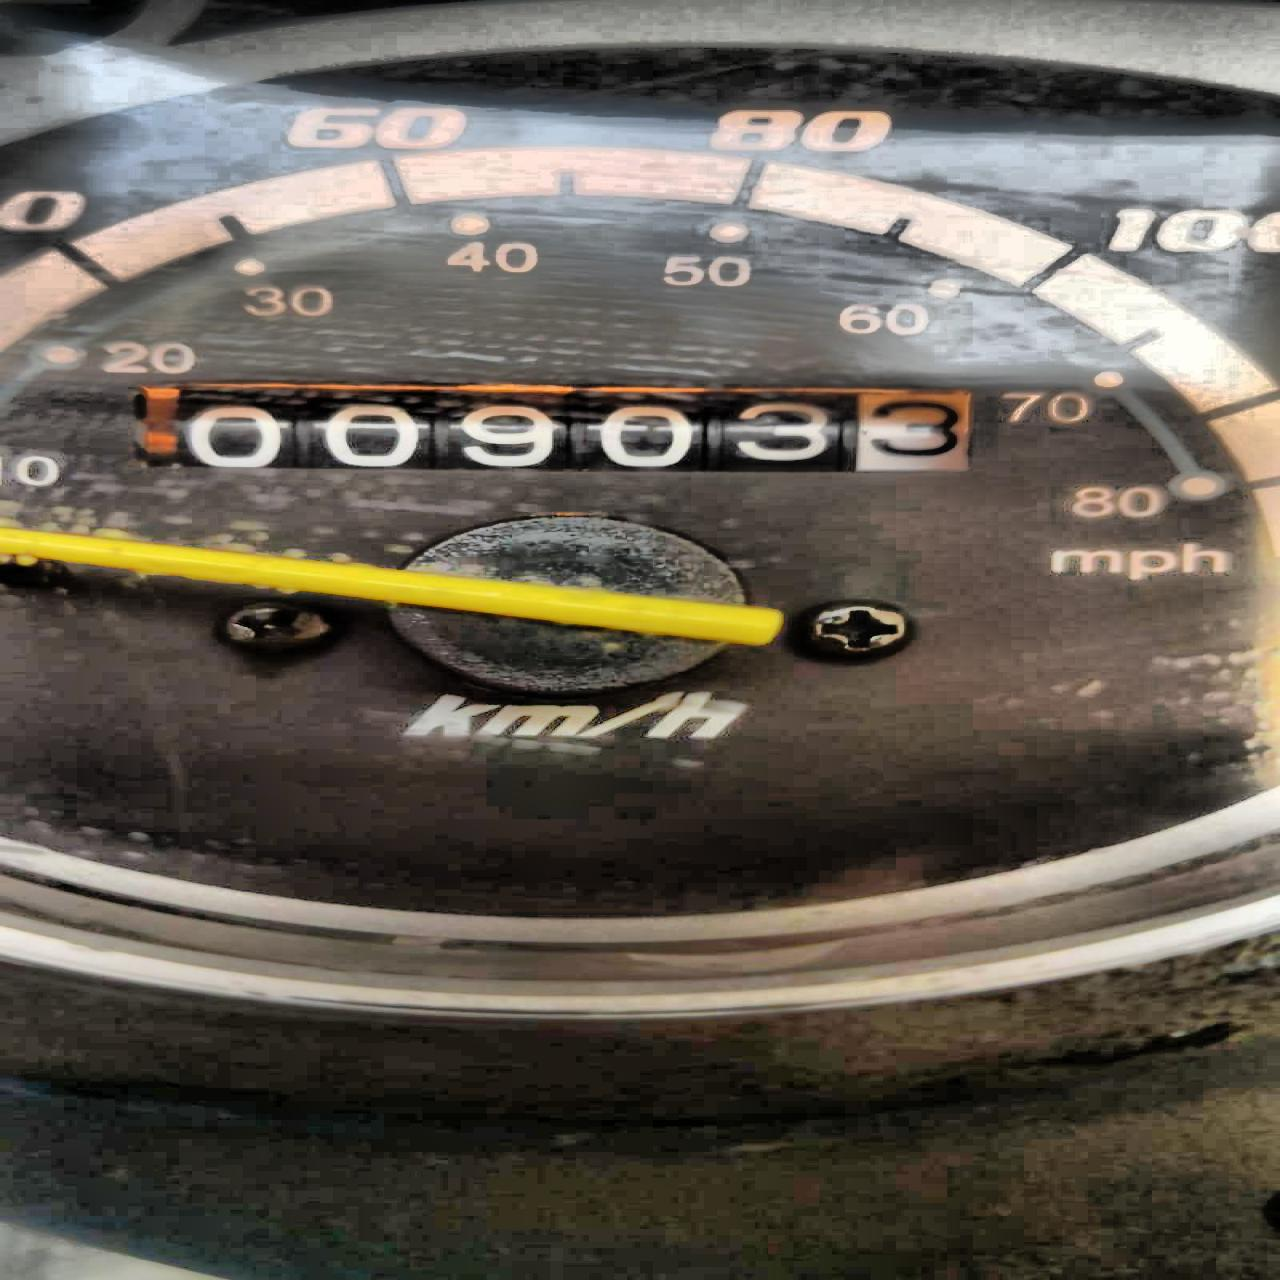0: (172, 404, 290, 474), (316, 402, 421, 471), (599, 399, 694, 471)
3: (727, 401, 829, 471), (867, 401, 960, 471)
9: (458, 397, 560, 471)
odometer: (102, 373, 1009, 488)
